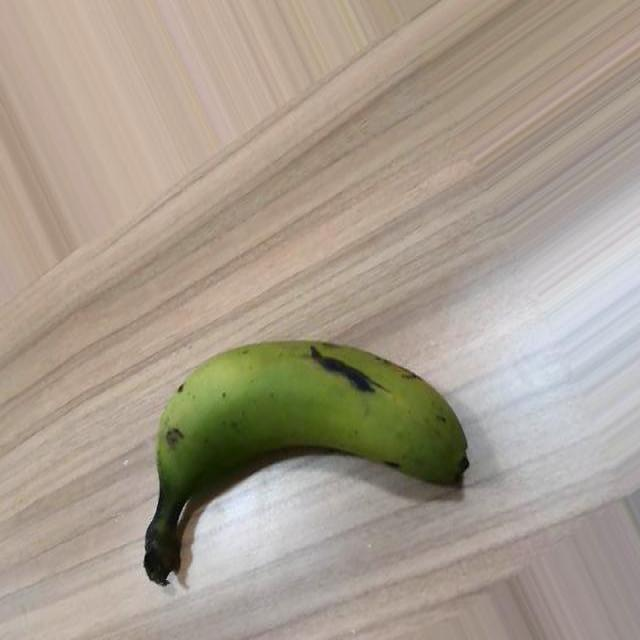Unripe: (140, 338, 470, 592)
